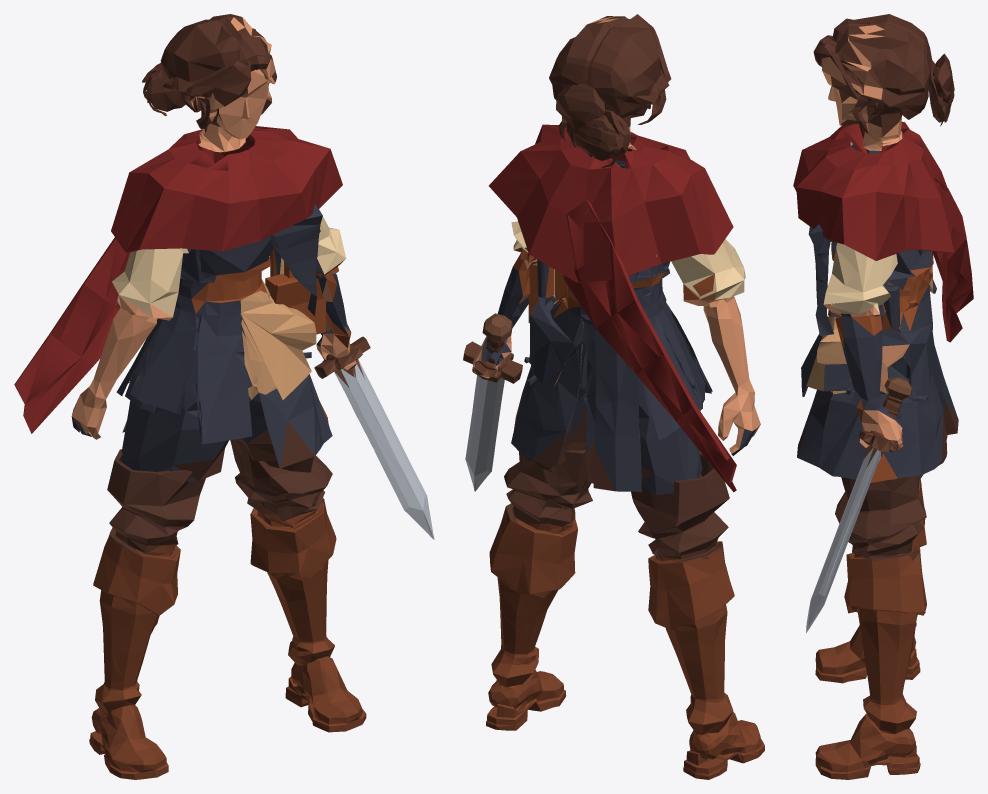
Rendered from protagonist_lowpoly.glb.
The picture shows the model from 3 angles, left to right: view 1: azimuth 30°, elevation 25°; view 2: azimuth 150°, elevation 25°; view 3: azimuth 270°, elevation 25°; orthographic projection. The views are drawn at different scales.
Parts seen in each view (by area): view 1: Body, Cape, Sword, Pouch; view 2: Body, Cape, Sword, Pouch; view 3: Body, Cape, Sword.
Part boxes in pixels (x1,y1,x2,y2): Body: (71,14,366,779); Cape: (14,126,342,433); Sword: (314,320,434,539); Pouch: (265,262,325,334); Body: (472,14,764,779); Cape: (489,124,736,492); Sword: (463,313,522,491); Pouch: (528,263,566,323); Body: (797,14,958,779); Cape: (793,121,973,342); Sword: (806,376,912,632).
Size of the model in its own units: 0.9693 by 1.95 by 0.455.
